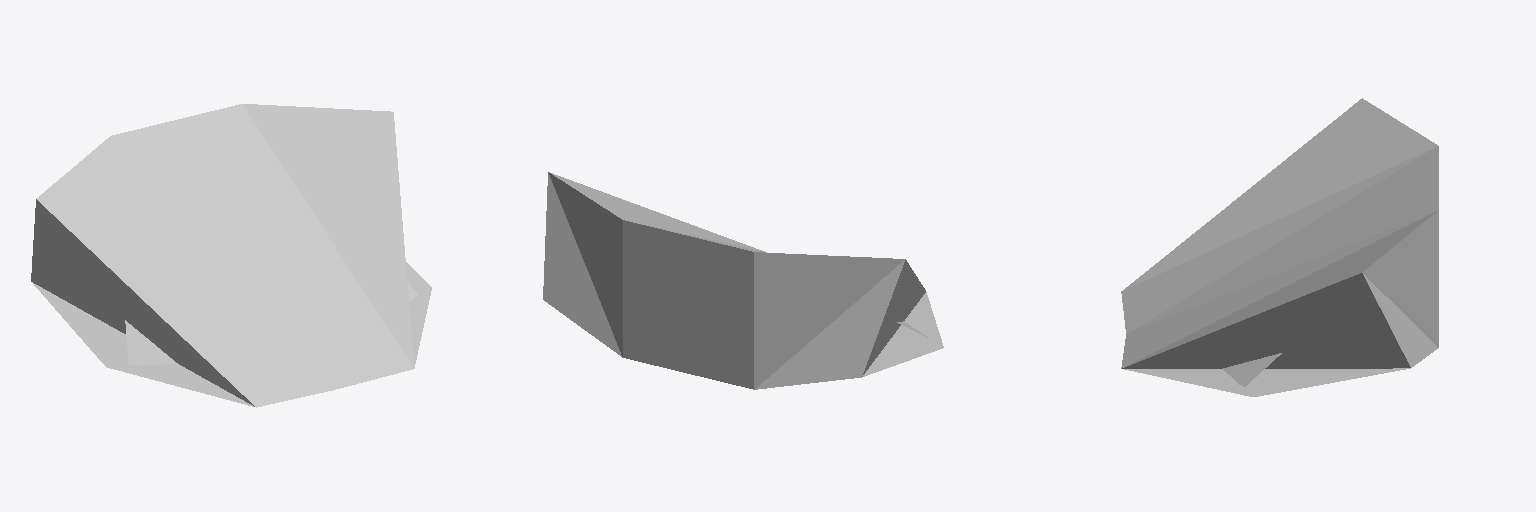
File: ramp.obj
3 views of the same model, side by side, from view 1: azimuth 30°, elevation 25°; view 2: azimuth 150°, elevation 25°; view 3: azimuth 270°, elevation 25° (orthographic).
Visible parts, largest first — view 1: Cube; view 2: Cube; view 3: Cube.
Part boxes in pixels (bbox=[...]): Cube: bbox=[31, 104, 431, 407]; Cube: bbox=[543, 172, 943, 389]; Cube: bbox=[1121, 98, 1438, 396].
Size of the model in its own units: 5.43 by 2.27 by 4.18.